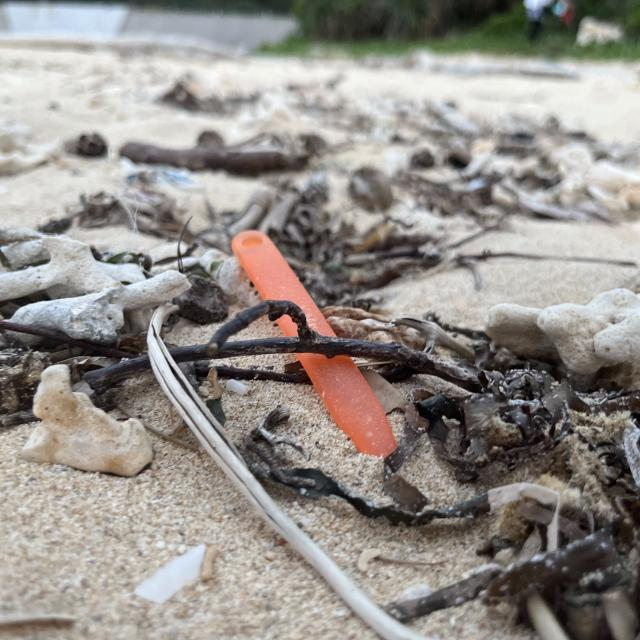coral: (0, 226, 192, 338), (488, 288, 640, 398), (24, 360, 160, 472)
stick: (73, 311, 513, 406), (115, 120, 308, 192)
trash: (224, 224, 408, 463)
